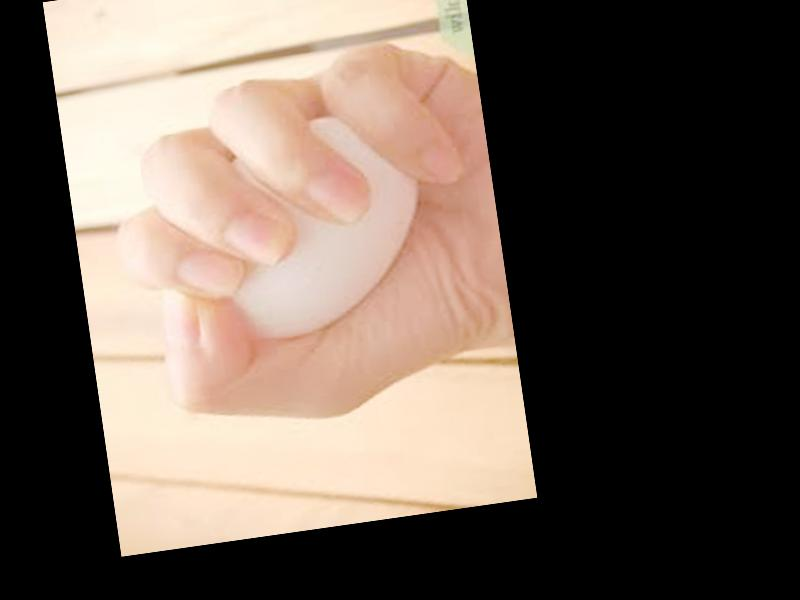Eggs: (209, 104, 435, 346)
